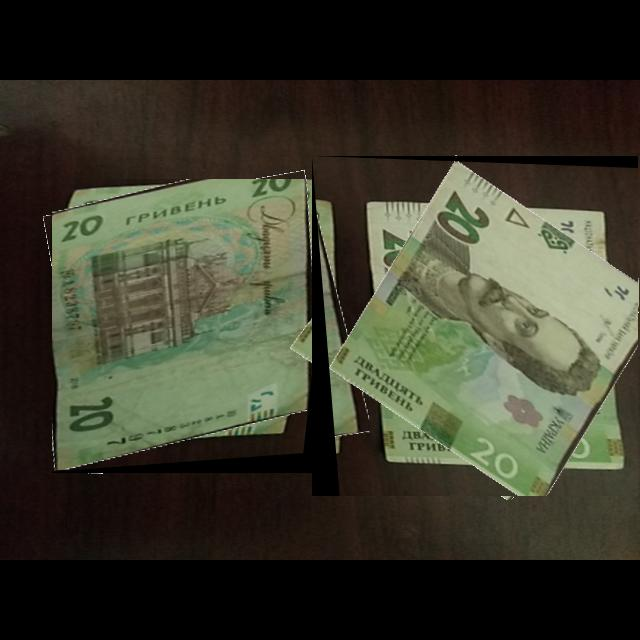20uah: (326, 161, 639, 497), (52, 179, 315, 472)
